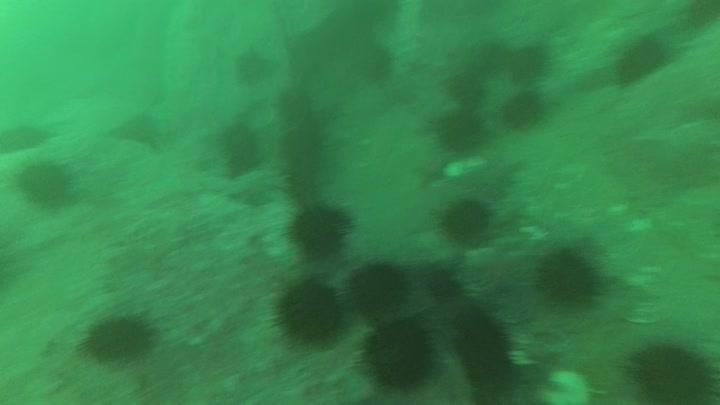echinus: (626, 338, 717, 404), (360, 317, 439, 392), (451, 305, 520, 387), (271, 276, 346, 347), (534, 243, 605, 310), (286, 198, 355, 261), (79, 310, 158, 365), (347, 260, 410, 315), (613, 32, 673, 85), (15, 158, 76, 210), (438, 196, 492, 246), (433, 108, 488, 157), (217, 120, 264, 176), (279, 122, 328, 166), (500, 88, 547, 132), (281, 161, 325, 207), (505, 42, 551, 83), (445, 68, 489, 109), (1, 120, 50, 156), (275, 84, 316, 126), (233, 46, 276, 86), (423, 266, 464, 303), (361, 43, 396, 85)
scallop: (537, 367, 594, 404)
